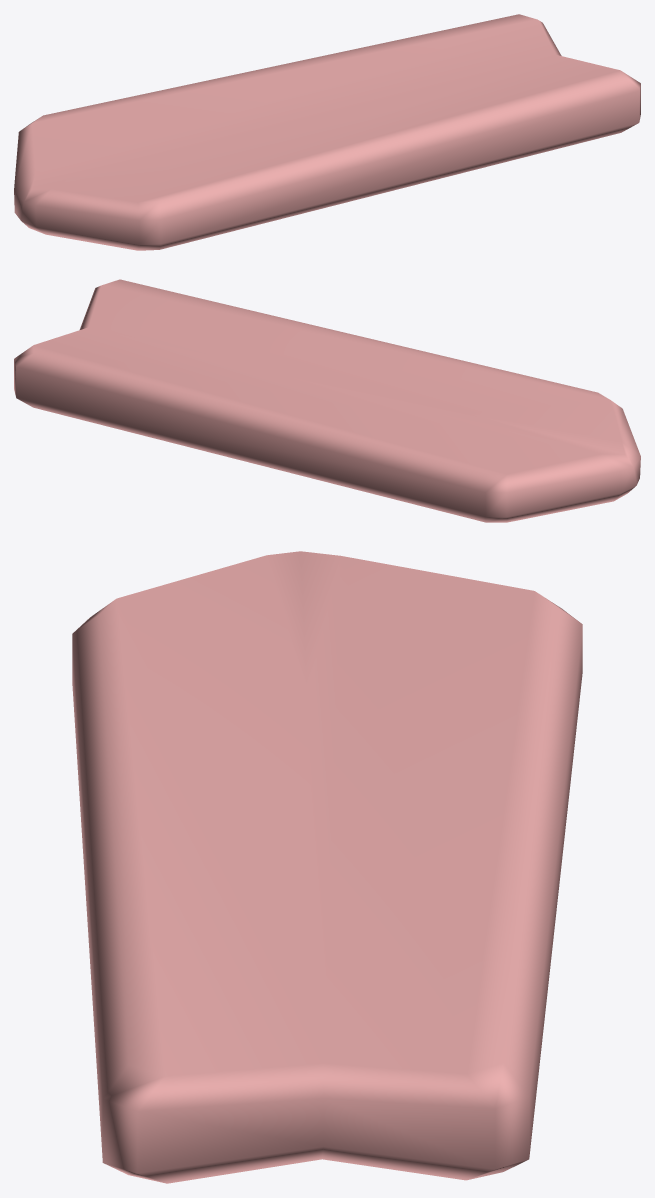
Rendered from Sign_1.fbx.
3 renders of one model, top to bottom at view 1: azimuth 30°, elevation 25°; view 2: azimuth 150°, elevation 25°; view 3: azimuth 270°, elevation 25°, orthographic. The views are drawn at different scales.
Parts seen in each view (by area): view 1: Signs_1; view 2: Signs_1; view 3: Signs_1.
Boxes of the visible parts, bbox=[...] form: Signs_1: bbox=[14, 14, 640, 250]; Signs_1: bbox=[14, 279, 640, 522]; Signs_1: bbox=[72, 551, 582, 1183].
Bounding box in the file's own units: 84.11 × 7.94 × 32.08.
